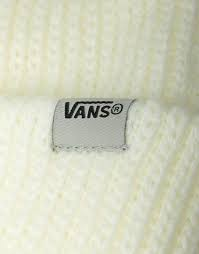vans: (64, 101, 113, 119)
